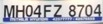character: (3, 4, 15, 17), (15, 4, 25, 17), (53, 4, 62, 17), (93, 3, 102, 16), (33, 4, 41, 18), (25, 4, 33, 17), (43, 4, 51, 17), (68, 4, 76, 17), (76, 4, 84, 17), (84, 4, 92, 16)
